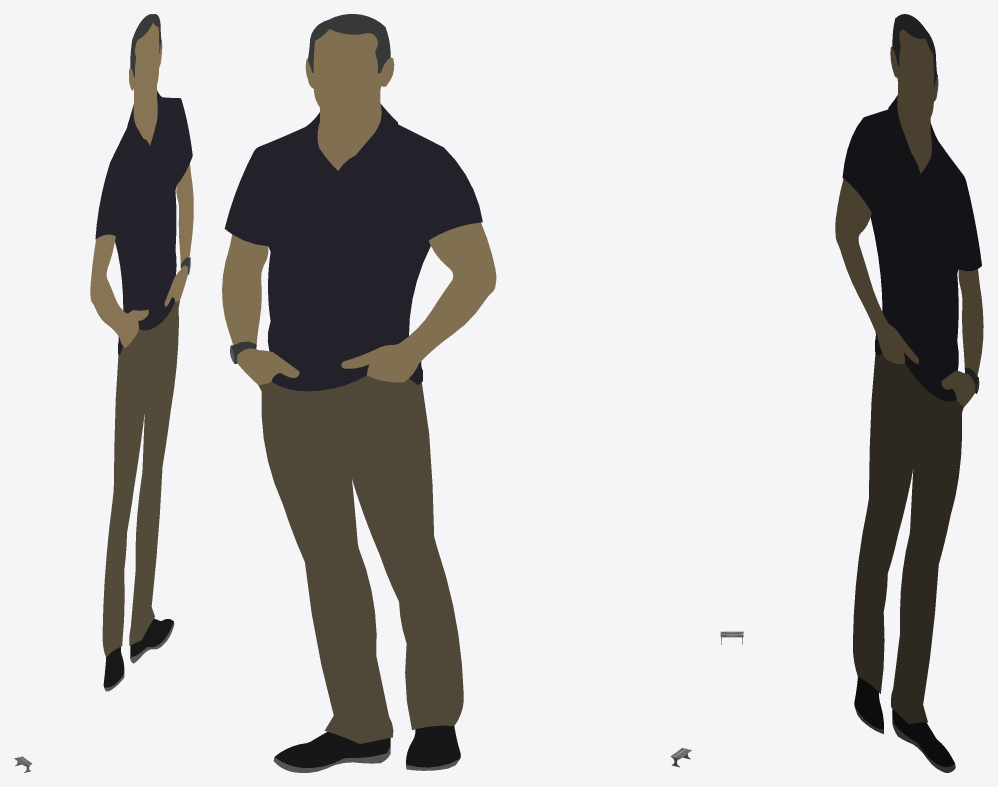
File: bench.dae
3 views of the same model, side by side, from view 1: azimuth 30°, elevation 25°; view 2: azimuth 150°, elevation 25°; view 3: azimuth 270°, elevation 25° (orthographic). The views are drawn at different scales.
Visible parts, largest first — view 1: Chris (×10); view 2: Chris (×10); view 3: Chris (×10).
Part boxes in pixels (x1,y1,x2,y2): Chris (×10): (90,14,193,687); Chris (×10): (222,14,496,767); Chris (×10): (835,14,983,766).
Size of the model in its own units: 32.09 by 22.45 by 69.5.
